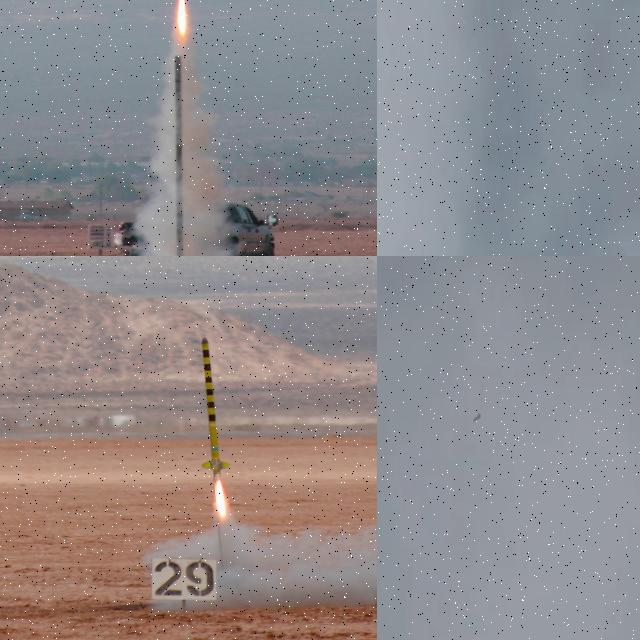Rocket: (199, 336, 230, 478), (473, 412, 481, 422)
